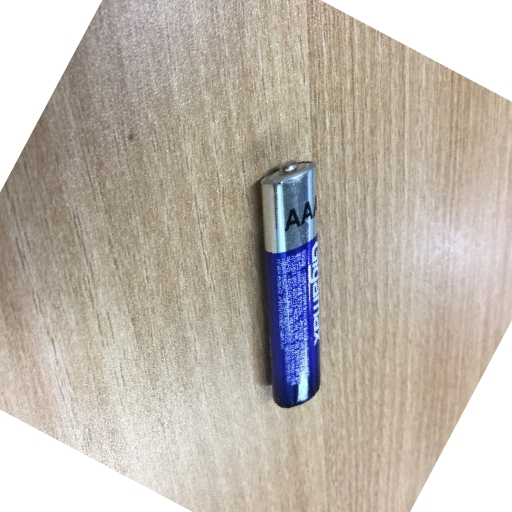Battery_0: (243, 152, 348, 415)
